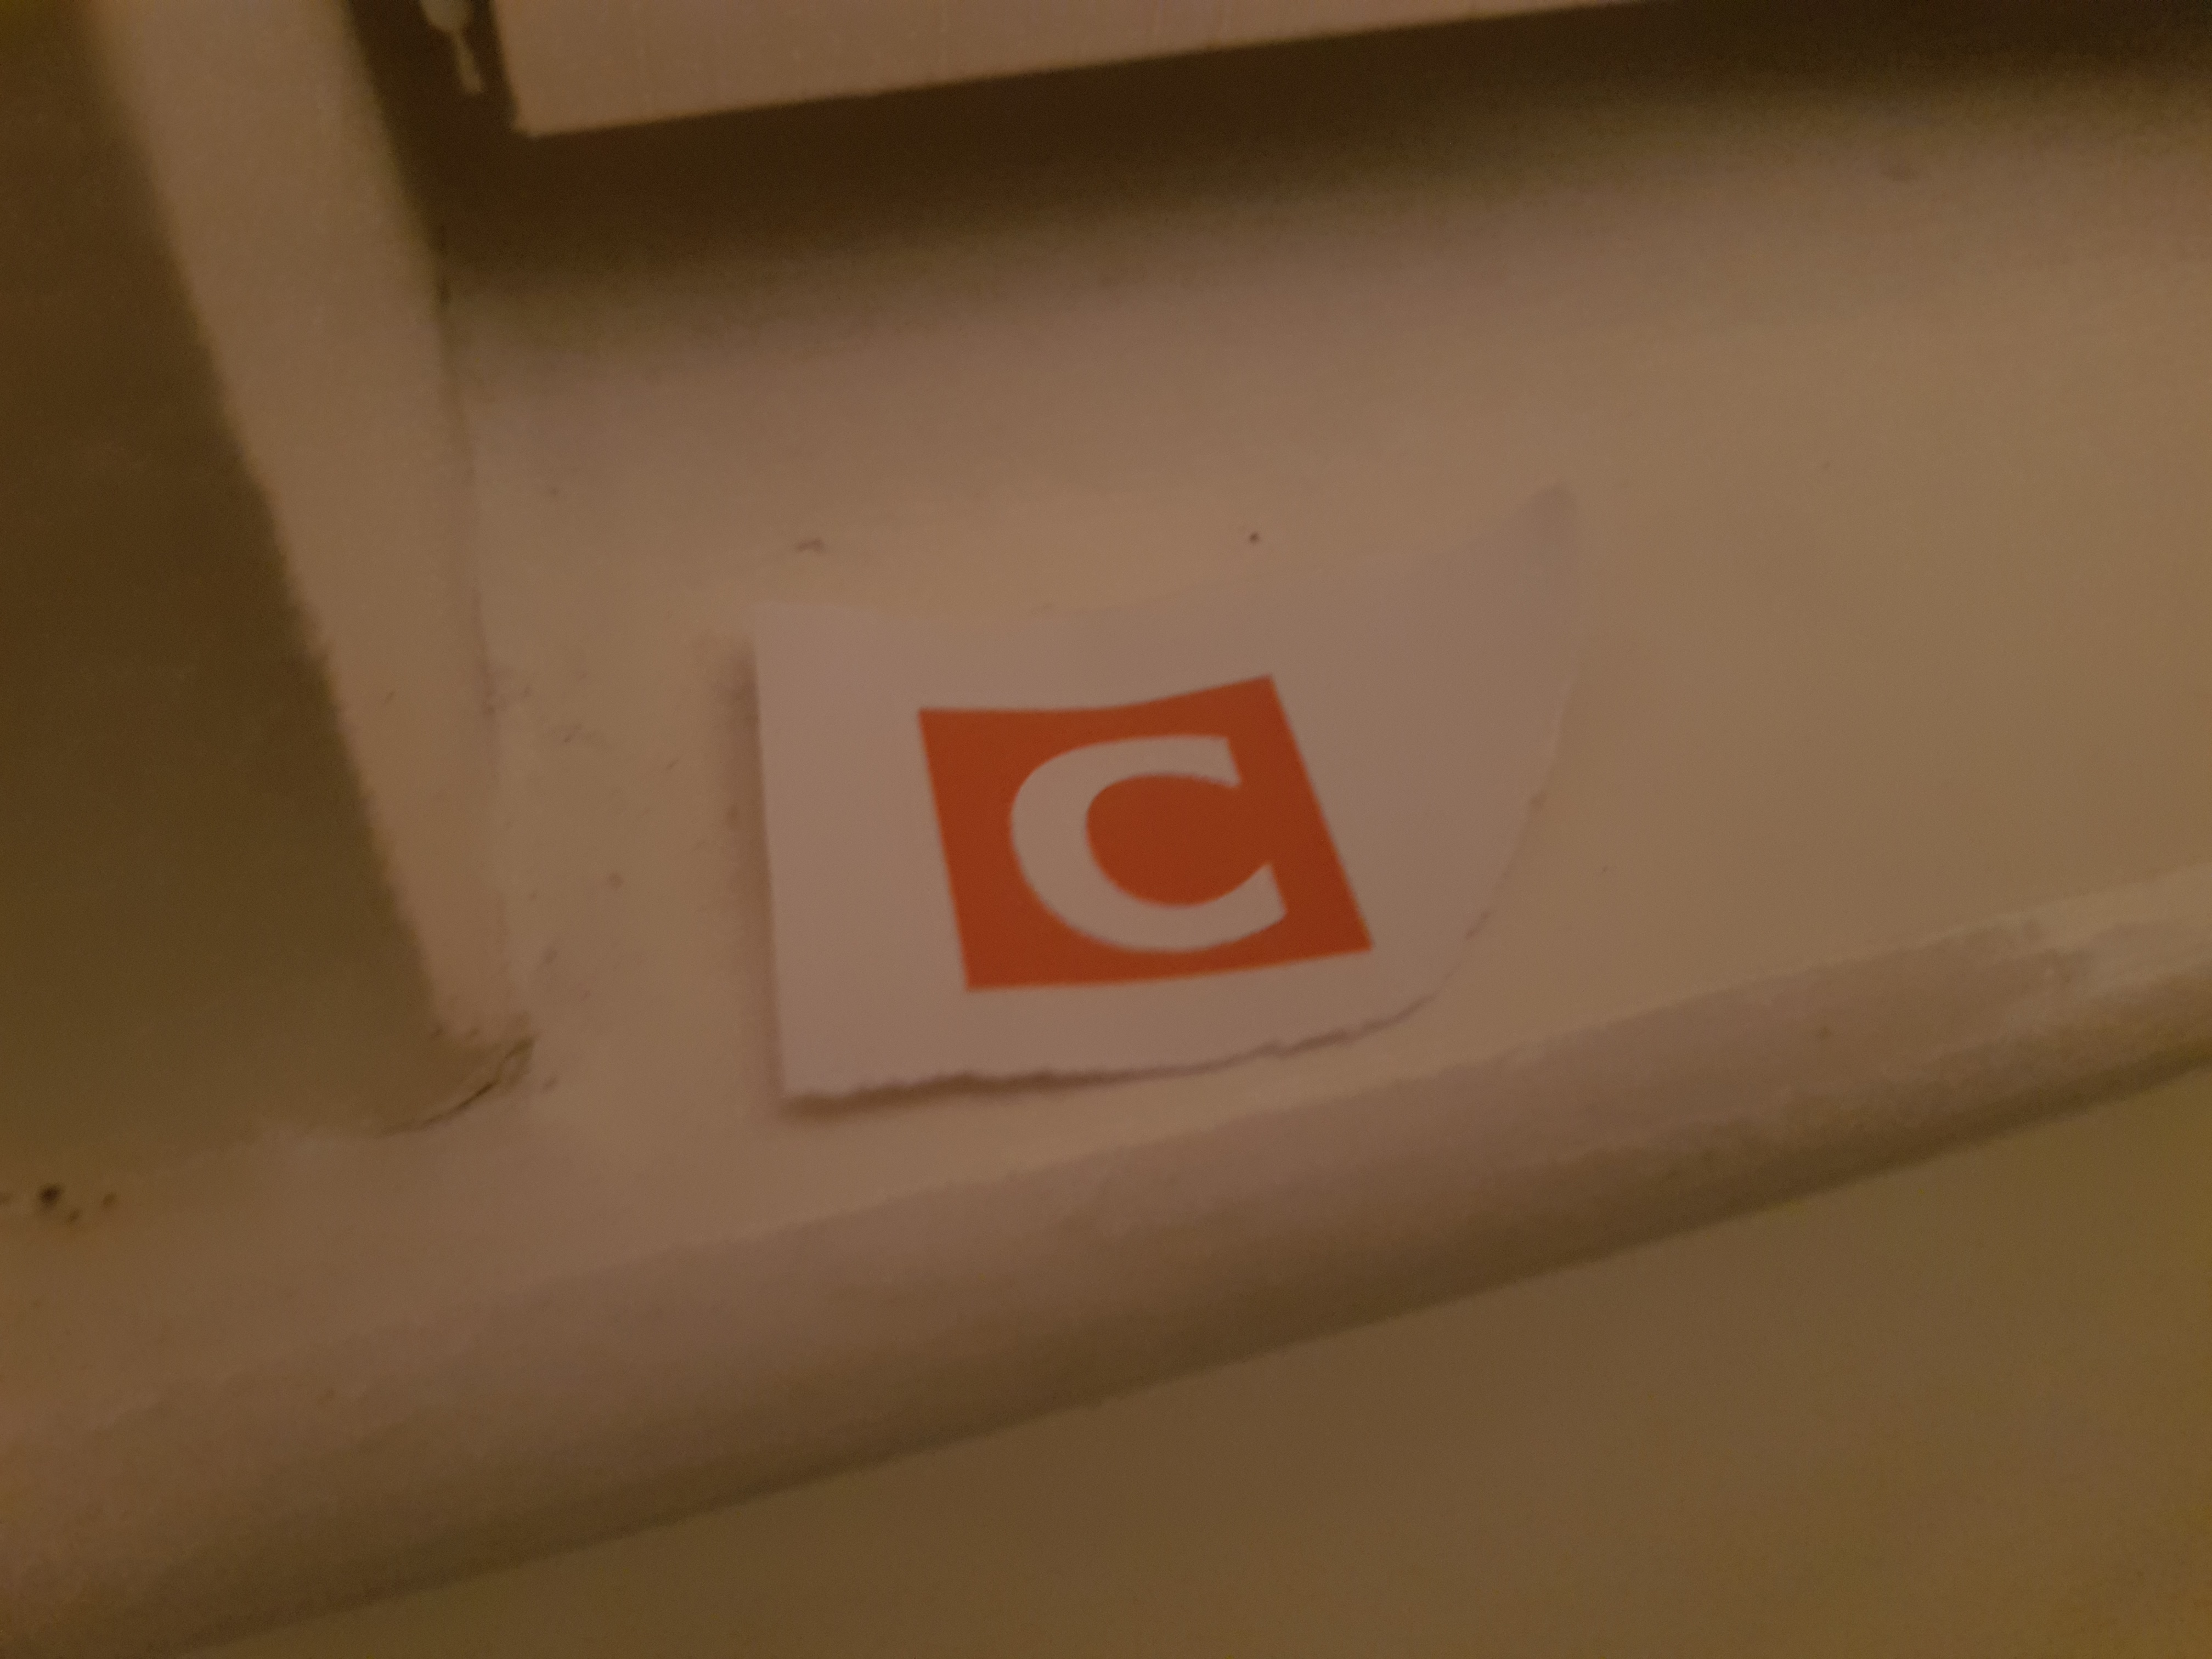orange marker: (732, 544, 1505, 1040)
